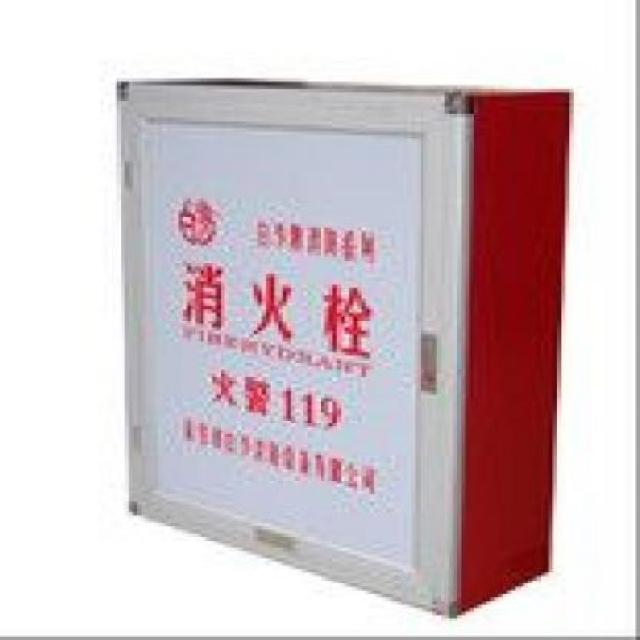firehydrant: (110, 72, 582, 626)
